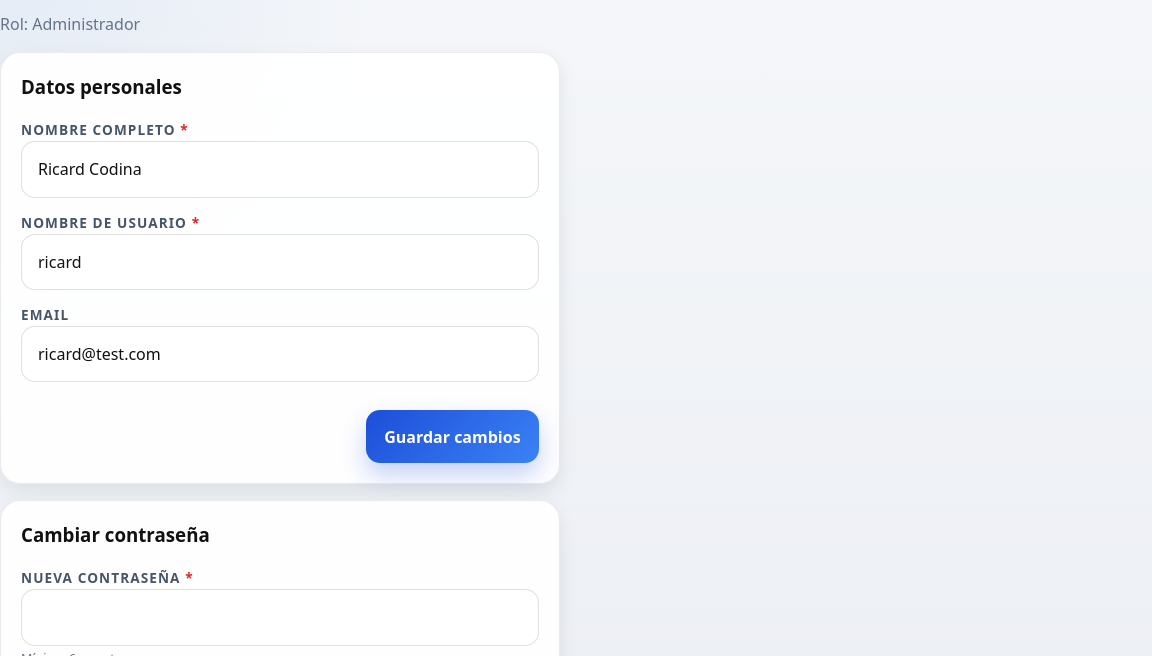
Test: ProfileView › shows password mismatch error
Type "abcdef" into the password field at (280, 618), box left=21, top=589, right=539, bottom=646
(page scrolled)
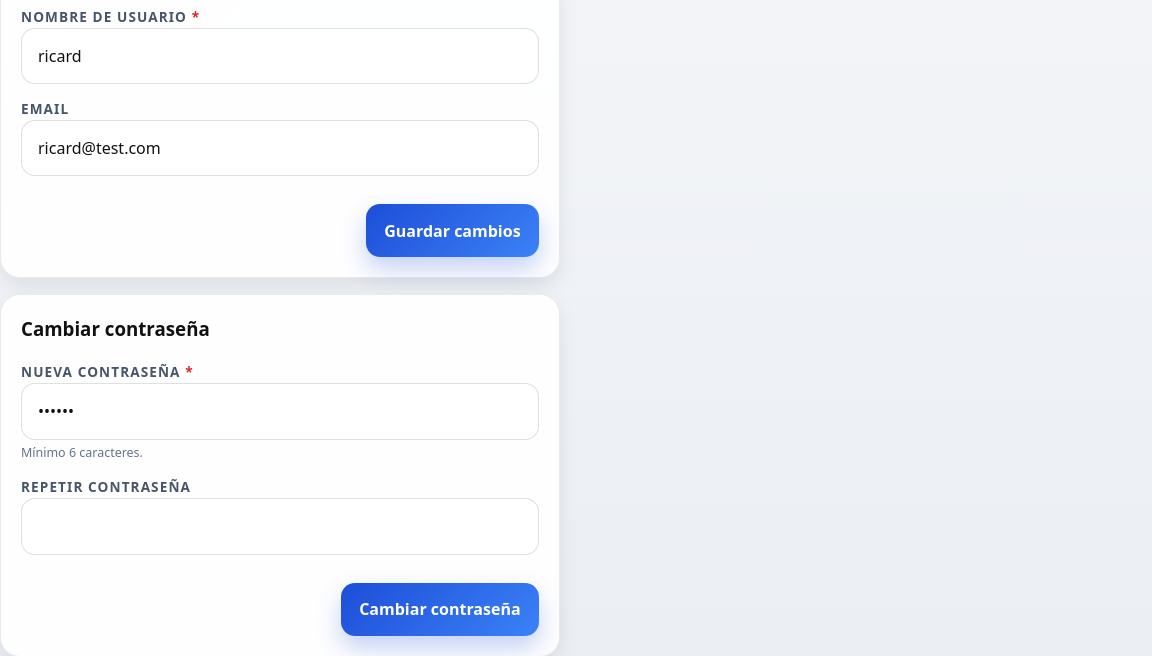
Type "xxxxxx" into the password field below "Repetir contraseña" at (280, 527), box left=21, top=498, right=539, bottom=555
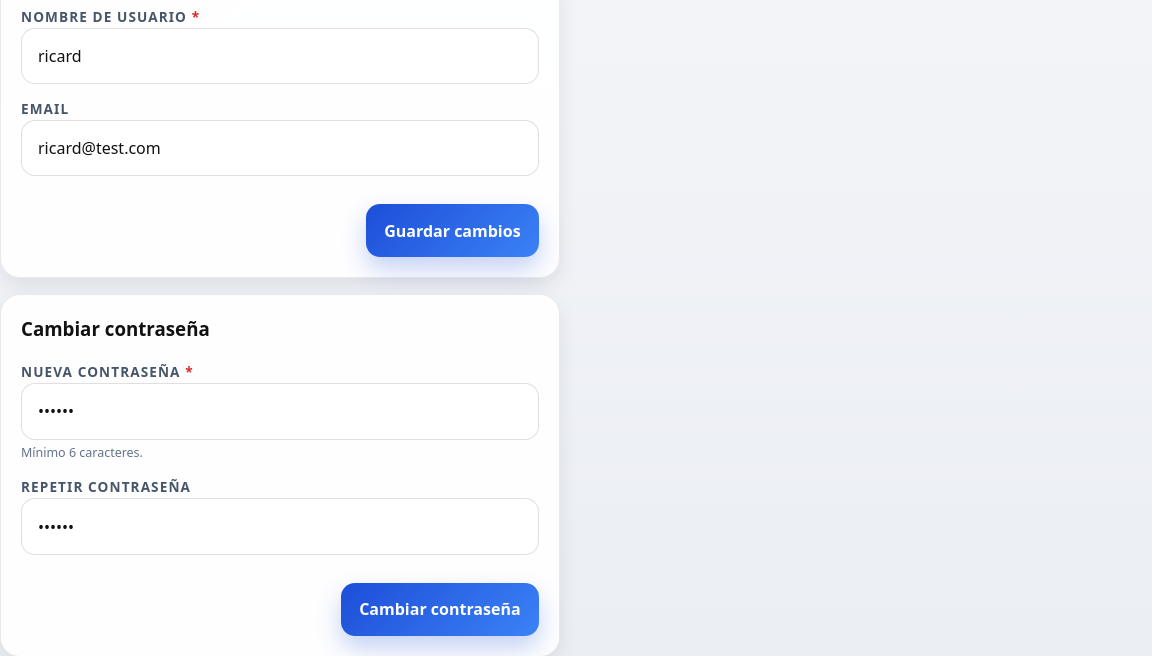
Submit the form that starts with "Nueva contraseña", box left=21, top=359, right=539, bottom=636
(page scrolled)
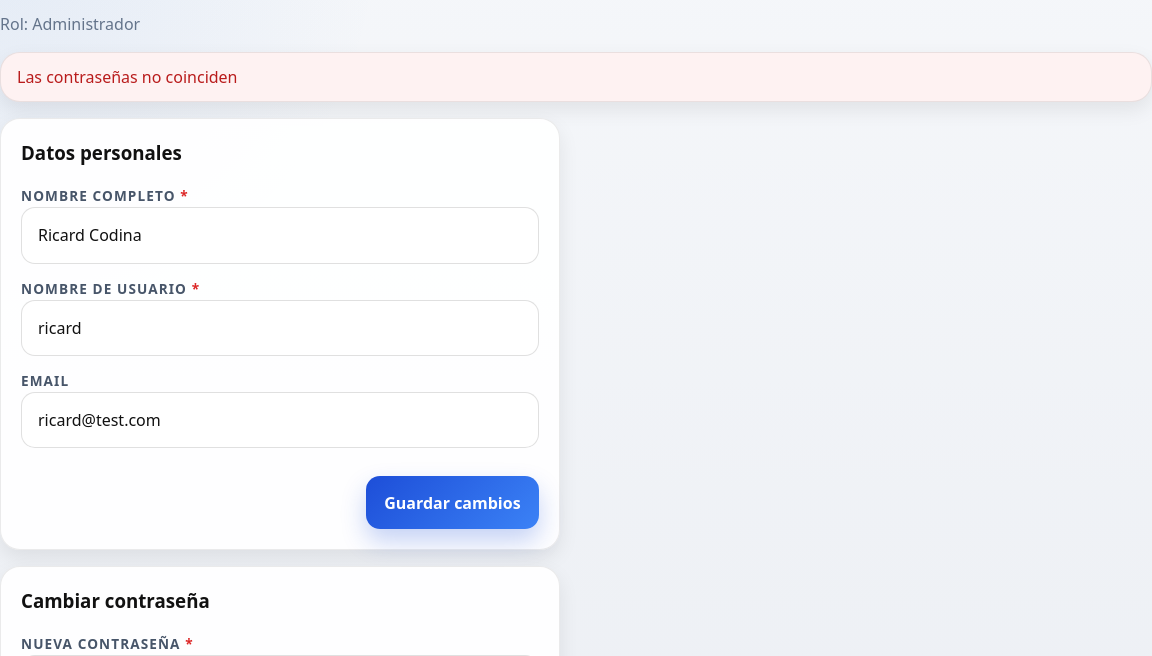
Expected: the text "Las contraseñas no coinciden" is shown, left=17, top=66, right=238, bottom=88
